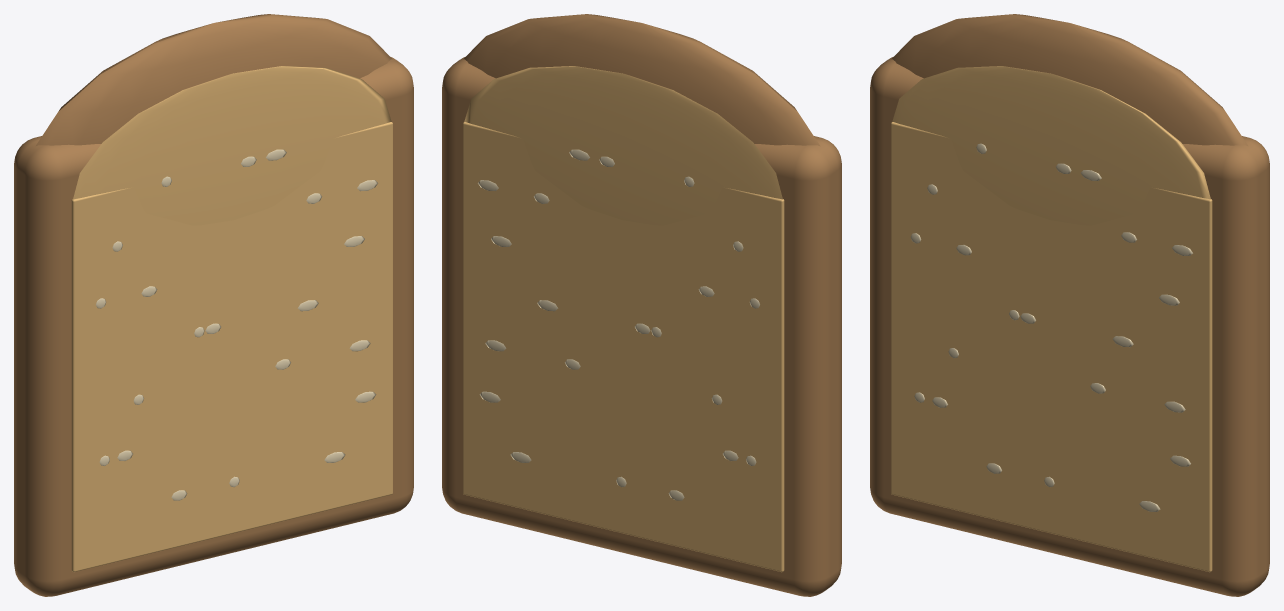
Rendered from toast.glb.
3 renders of one model, left to right at view 1: azimuth 30°, elevation 25°; view 2: azimuth 150°, elevation 25°; view 3: azimuth 330°, elevation 25°, orthographic.
Visible parts, largest first — view 1: crumb, edge, cream; view 2: crumb, edge, cream; view 3: crumb, edge, cream.
Part boxes in pixels (x1,y1,x2,y2): crumb: (71, 66, 392, 572); edge: (14, 14, 413, 596); cream: (96, 149, 377, 500); crumb: (463, 66, 784, 572); edge: (442, 14, 841, 596); cream: (478, 149, 759, 500); crumb: (891, 66, 1212, 572); edge: (870, 14, 1269, 596); cream: (910, 143, 1192, 511).
Bounding box in the file's own units: 1.3 × 1.7 × 0.246.
